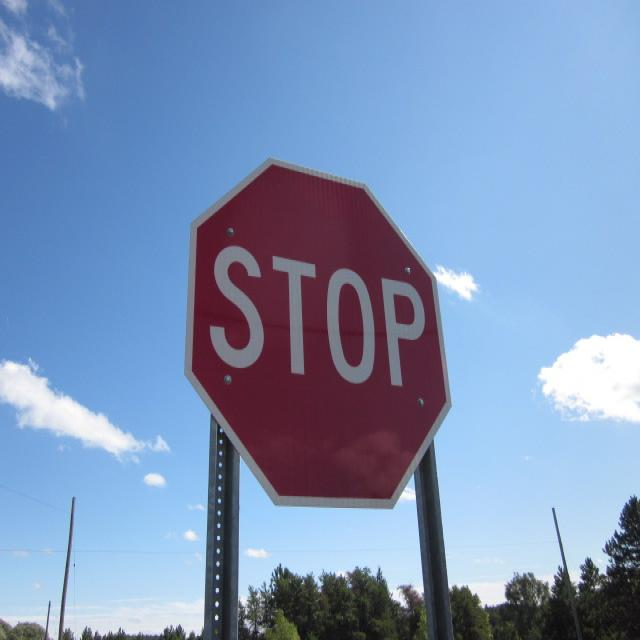stop: (185, 156, 455, 514)
